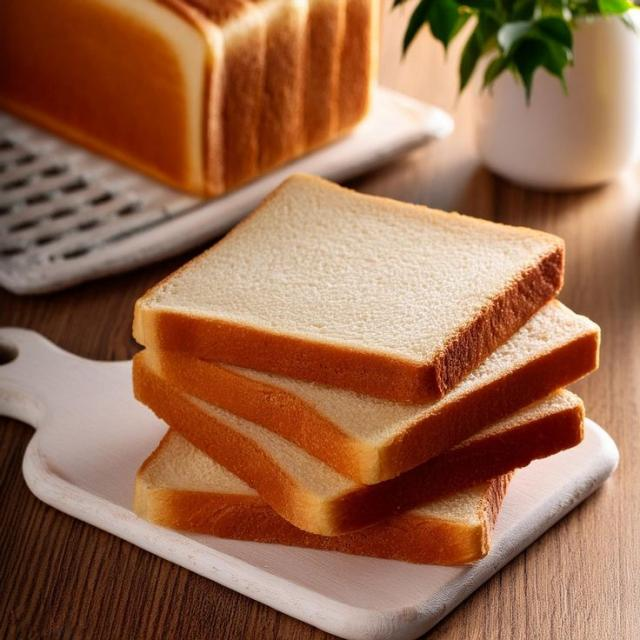sliced_bread: (134, 176, 563, 402), (147, 301, 599, 484), (134, 352, 583, 535), (134, 430, 510, 565)
